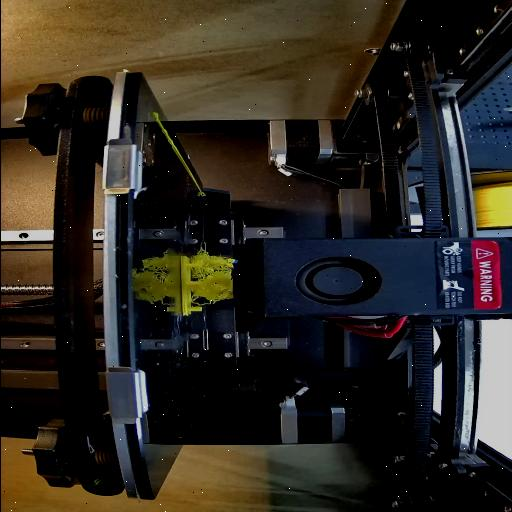spaghetti: (190, 252, 235, 304)
